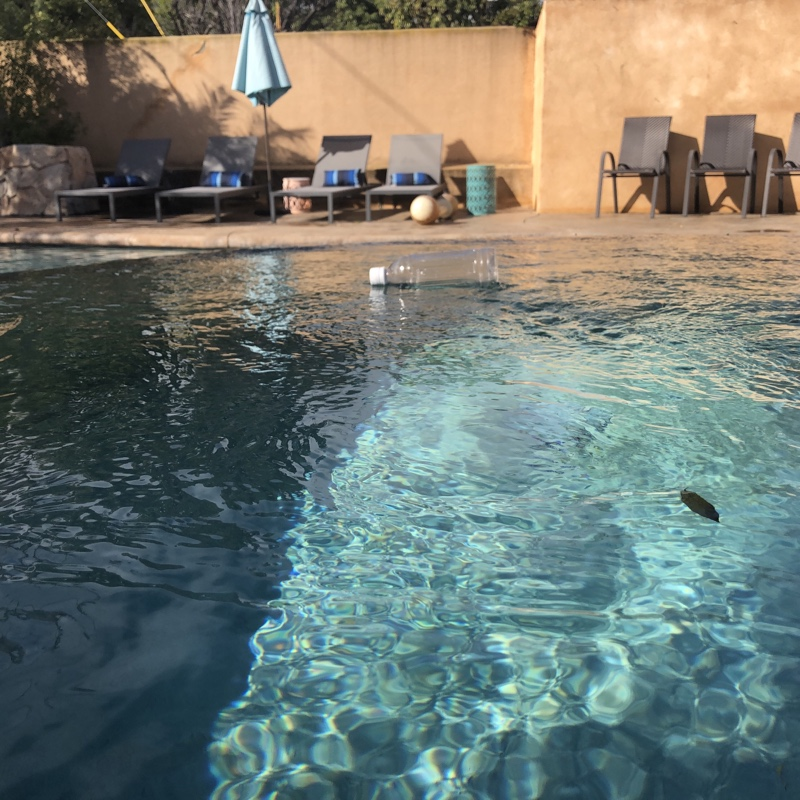Plastic Bottle: (367, 245, 503, 290)
